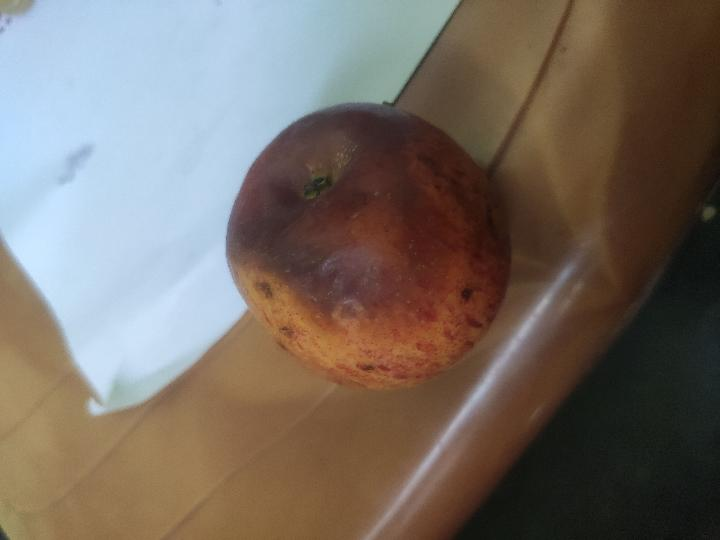apple: (226, 104, 510, 389)
rot_mold_decay: (227, 104, 509, 322)
